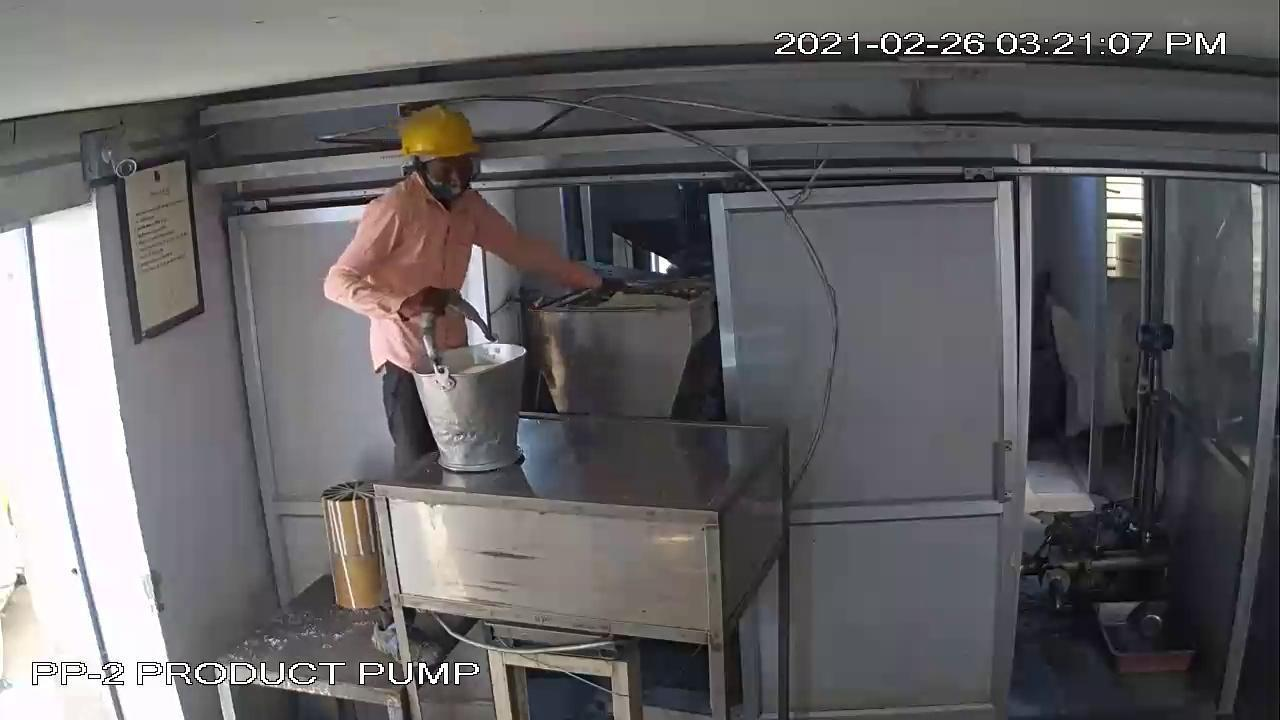helmet: (388, 100, 494, 180)
